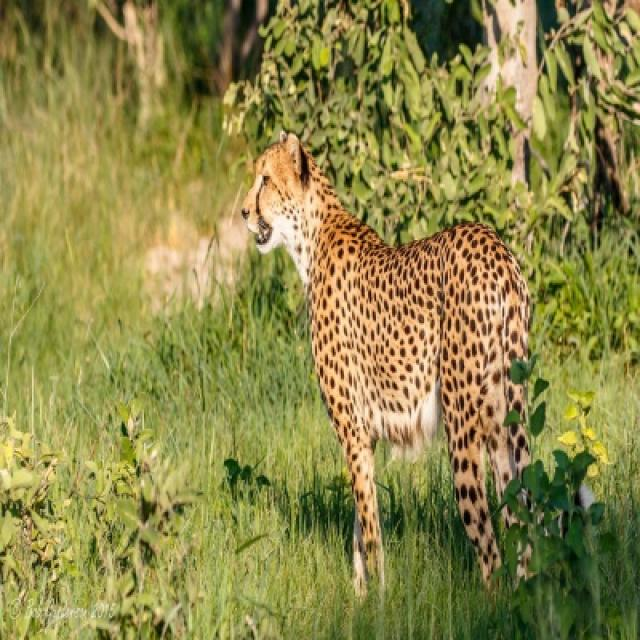Cheetah: (240, 128, 535, 605)
